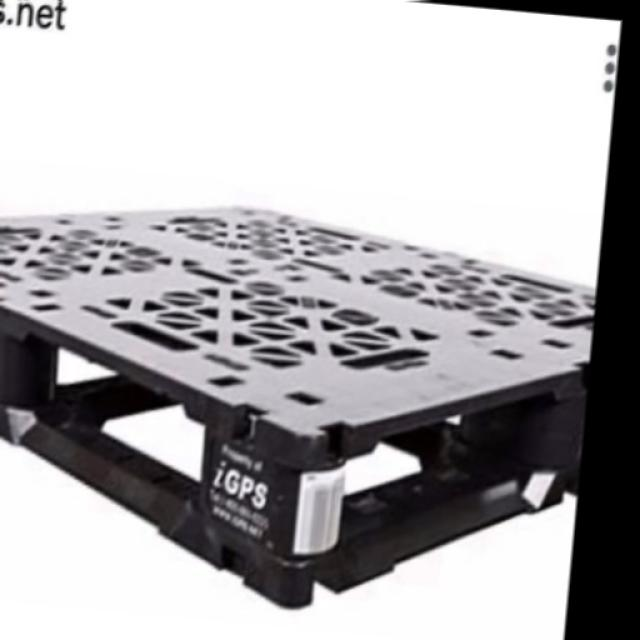igps: (0, 198, 609, 612)
